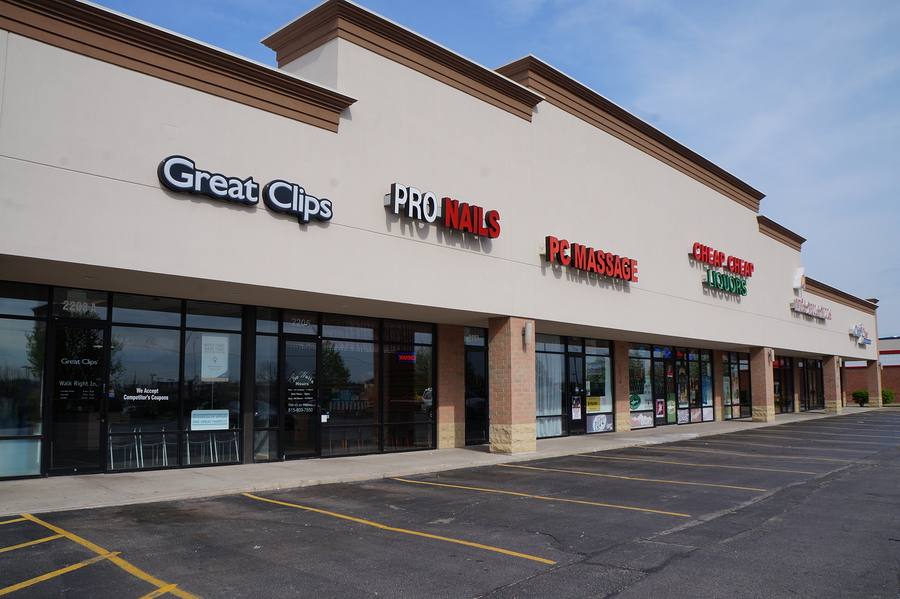empyt_space: (23, 491, 593, 599), (238, 470, 711, 570), (382, 461, 787, 522), (494, 448, 820, 495), (571, 439, 885, 481)
